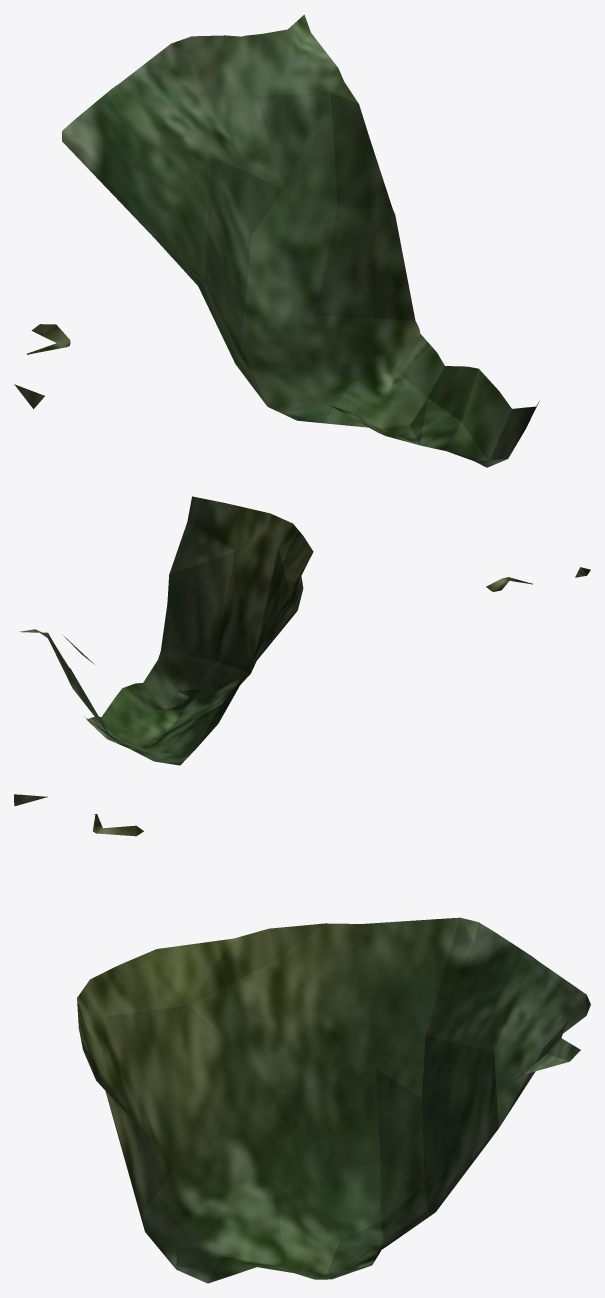
The picture shows the model from 3 angles, top to bottom: view 1: azimuth 30°, elevation 25°; view 2: azimuth 150°, elevation 25°; view 3: azimuth 270°, elevation 25°; orthographic projection. The views are drawn at different scales.
Size of the model in its own units: 2.3 by 1.06 by 2.2.
Materials: 1 (1 with a texture image).
